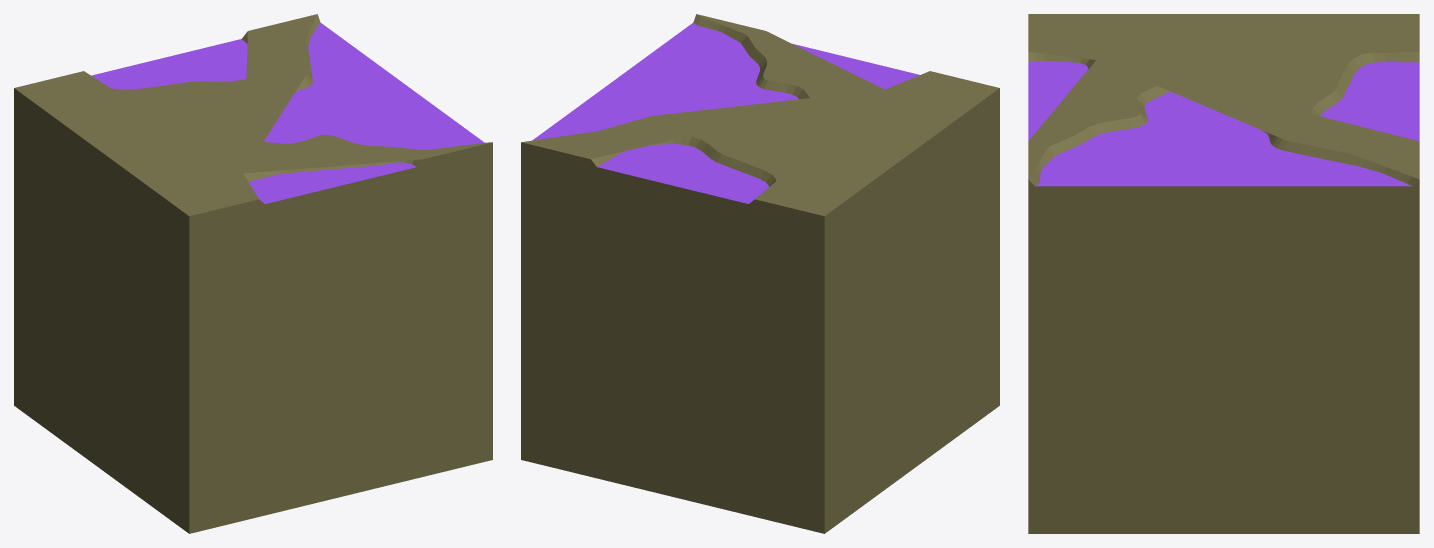
Rendered from tile_toxic_5b_03.fbx.
3 renders of one model, left to right at view 1: azimuth 30°, elevation 25°; view 2: azimuth 150°, elevation 25°; view 3: azimuth 270°, elevation 25°, orthographic. The views are drawn at different scales.
Parts seen in each view (by area): view 1: tile_toxic_5b_03; view 2: tile_toxic_5b_03; view 3: tile_toxic_5b_03.
Part boxes in pixels (x1,y1,x2,y2): tile_toxic_5b_03: (14, 14, 492, 533); tile_toxic_5b_03: (521, 14, 999, 533); tile_toxic_5b_03: (1028, 14, 1419, 533).
Size of the model in its own units: 100 by 100 by 100.
